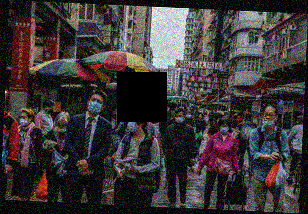mask_weared_incorrect: (262, 110, 277, 127)
with_mask: (88, 96, 104, 115), (126, 117, 139, 134), (19, 114, 30, 127), (174, 114, 185, 126), (219, 124, 231, 135), (56, 122, 67, 133), (48, 106, 54, 115), (186, 113, 192, 120), (233, 114, 239, 119)
without_mask: (198, 114, 203, 120)
